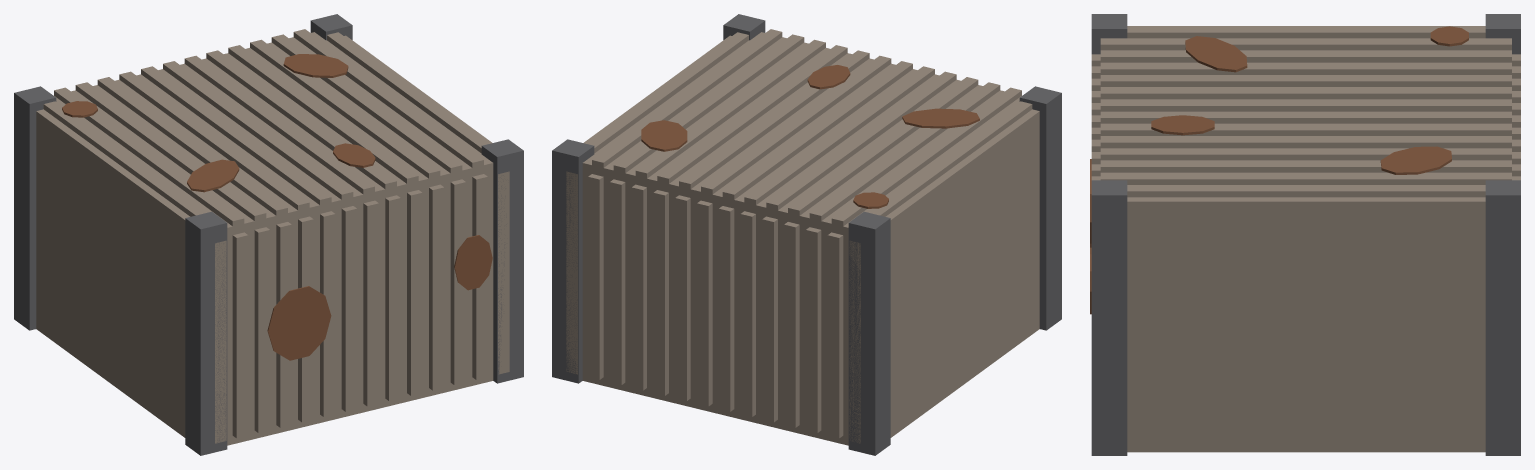
File: vge_trading_container_h.obj
3 views of the same model, side by side, from view 1: azimuth 30°, elevation 25°; view 2: azimuth 150°, elevation 25°; view 3: azimuth 270°, elevation 25° (orthographic). The views are drawn at different scales.
Parts seen in each view (by area): view 1: vge_trading_container_h_0, vge_trading_container_h_43, vge_trading_container_h_44, vge_trading_container_h_45, vge_trading_container_h_51, vge_trading_container_h_20, vge_trading_container_h_5, vge_trading_container_h_26, vge_trading_container_h_32, vge_trading_container_h_29, vge_trading_container_h_23, vge_trading_container_h_8 (+26 smaller); view 2: vge_trading_container_h_0, vge_trading_container_h_44, vge_trading_container_h_46, vge_trading_container_h_43, vge_trading_container_h_21, vge_trading_container_h_6, vge_trading_container_h_15, vge_trading_container_h_27, vge_trading_container_h_33, vge_trading_container_h_39, vge_trading_container_h_9, vge_trading_container_h_30 (+24 smaller); view 3: vge_trading_container_h_0, vge_trading_container_h_45, vge_trading_container_h_46, vge_trading_container_h_19, vge_trading_container_h_16, vge_trading_container_h_28, vge_trading_container_h_37, vge_trading_container_h_10, vge_trading_container_h_22, vge_trading_container_h_13, vge_trading_container_h_25, vge_trading_container_h_40 (+11 smaller).
Boxes of the visible parts, <box> form: vge_trading_container_h_0: <box>36,32,493,445</box>; vge_trading_container_h_43: <box>185,211,227,455</box>; vge_trading_container_h_44: <box>14,86,56,330</box>; vge_trading_container_h_45: <box>481,139,523,383</box>; vge_trading_container_h_51: <box>267,286,331,360</box>; vge_trading_container_h_20: <box>341,206,357,411</box>; vge_trading_container_h_5: <box>232,232,248,438</box>; vge_trading_container_h_26: <box>385,195,400,401</box>; vge_trading_container_h_32: <box>429,184,444,390</box>; vge_trading_container_h_29: <box>407,190,422,395</box>; vge_trading_container_h_23: <box>363,200,378,406</box>; vge_trading_container_h_8: <box>254,227,269,432</box>; vge_trading_container_h_0: <box>582,32,1039,445</box>; vge_trading_container_h_44: <box>848,211,890,455</box>; vge_trading_container_h_46: <box>552,139,594,383</box>; vge_trading_container_h_43: <box>1019,86,1061,330</box>; vge_trading_container_h_21: <box>718,206,734,411</box>; vge_trading_container_h_6: <box>827,232,843,438</box>; vge_trading_container_h_15: <box>762,216,777,422</box>; vge_trading_container_h_27: <box>675,195,690,401</box>; vge_trading_container_h_33: <box>631,184,646,390</box>; vge_trading_container_h_39: <box>588,174,603,379</box>; vge_trading_container_h_9: <box>806,227,821,432</box>; vge_trading_container_h_30: <box>653,190,668,395</box>; vge_trading_container_h_0: <box>1127,197,1485,452</box>; vge_trading_container_h_45: <box>1091,180,1127,455</box>; vge_trading_container_h_46: <box>1485,180,1520,455</box>; vge_trading_container_h_19: <box>1100,99,1511,111</box>; vge_trading_container_h_16: <box>1100,87,1511,99</box>; vge_trading_container_h_28: <box>1100,136,1511,148</box>; vge_trading_container_h_37: <box>1100,172,1511,184</box>; vge_trading_container_h_10: <box>1100,62,1511,74</box>; vge_trading_container_h_22: <box>1100,111,1511,123</box>; vge_trading_container_h_13: <box>1100,75,1511,86</box>; vge_trading_container_h_25: <box>1100,123,1511,135</box>; vge_trading_container_h_40: <box>1127,185,1485,197</box>.
Size of the model in its own units: 1.94 by 1.3 by 1.95.
